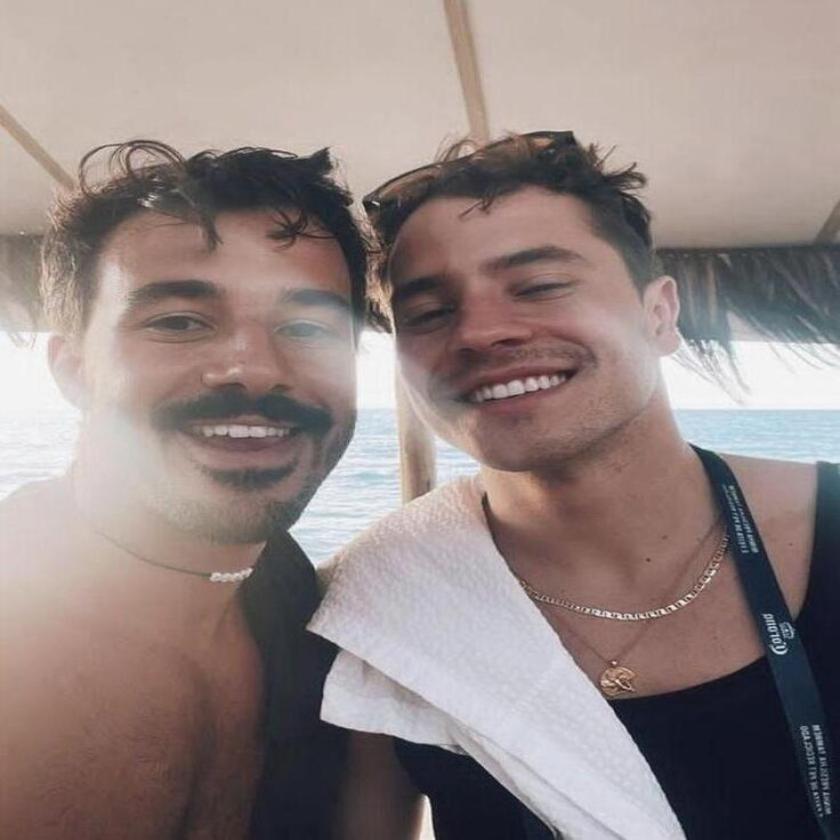Sin_casco: (44, 143, 383, 576), (367, 134, 681, 474)
